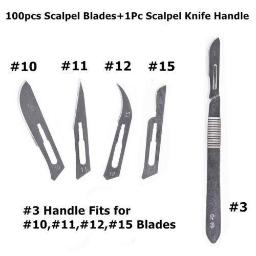scalpel: (206, 37, 224, 243)
